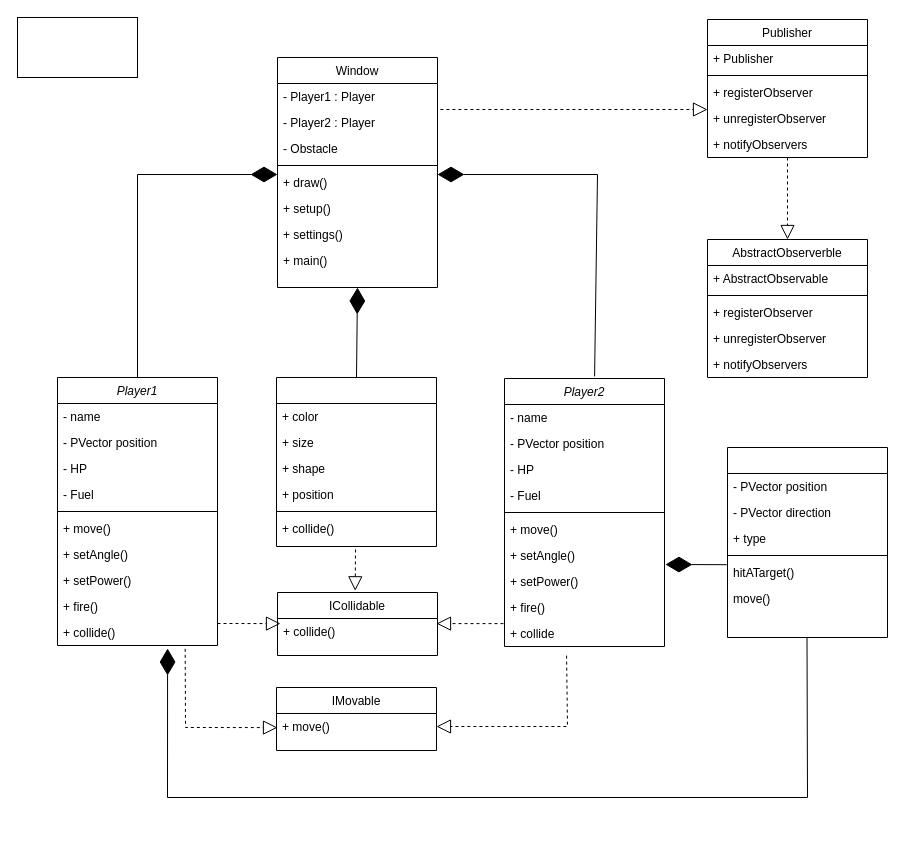
This 905x841 diagram has some shape labels left out. Each missing label, with the box of its shape:
Cannon Shooter: (16, 16, 138, 78)
Cannonball: (726, 446, 888, 638)
Obstacle: (276, 376, 436, 546)
